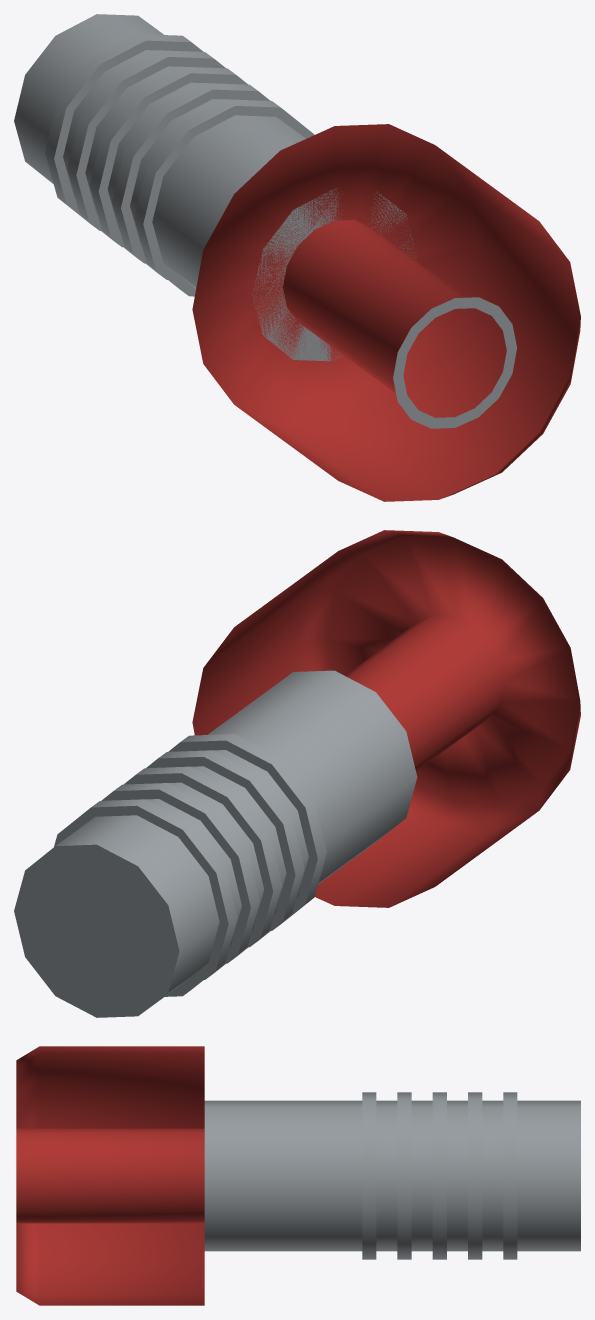
The model's file is cmp-banana-jack.glb.
3 renders of one model, top to bottom at view 1: azimuth 30°, elevation 25°; view 2: azimuth 150°, elevation 25°; view 3: azimuth 270°, elevation 25°, orthographic. The views are drawn at different scales.
Parts seen in each view (by area): view 1: STATIC_paint, STATIC_metal; view 2: STATIC_metal, STATIC_paint; view 3: STATIC_metal, STATIC_paint.
Boxes of the visible parts, <box> form: STATIC_paint: <box>192,124,580,501</box>; STATIC_metal: <box>14,14,516,428</box>; STATIC_metal: <box>14,670,417,1017</box>; STATIC_paint: <box>192,530,580,907</box>; STATIC_metal: <box>204,1092,580,1259</box>; STATIC_paint: <box>16,1046,204,1305</box>.
Bounding box in the file's own units: 0.011 × 0.011 × 0.024.
